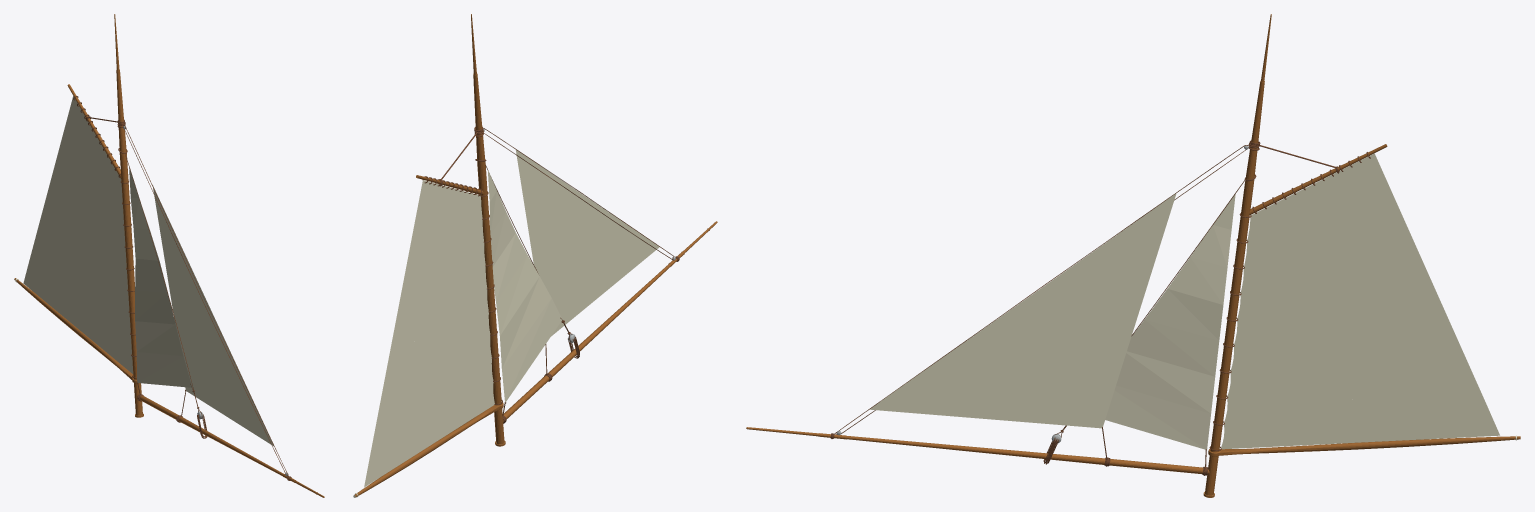
The model's file is Layar.fbx.
3 renders of one model, left to right at view 1: azimuth 30°, elevation 25°; view 2: azimuth 150°, elevation 25°; view 3: azimuth 270°, elevation 25°, orthographic. The views are drawn at different scales.
Parts seen in each view (by area): view 1: SM_Ship12_Mesh.001; view 2: SM_Ship12_Mesh.001; view 3: SM_Ship12_Mesh.001.
Part boxes in pixels (bbox=[...]): SM_Ship12_Mesh.001: bbox=[14, 14, 324, 497]; SM_Ship12_Mesh.001: bbox=[353, 14, 717, 497]; SM_Ship12_Mesh.001: bbox=[746, 14, 1520, 497].
Bounding box in the file's own units: 253 × 2870 × 4178.
